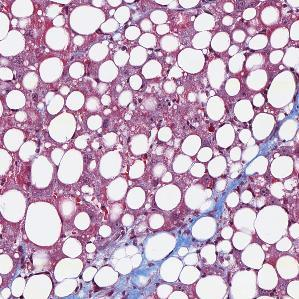fibrosis: (134, 218, 196, 293)
